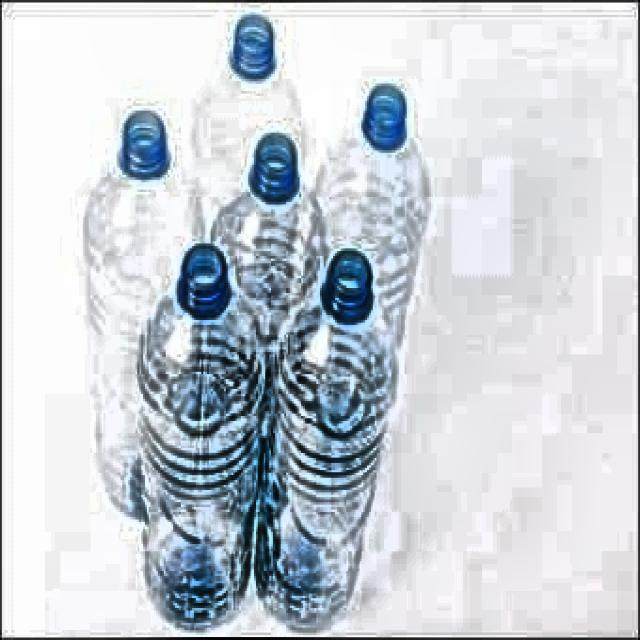Bottles: (127, 234, 275, 625), (253, 236, 396, 635), (206, 132, 341, 326)
